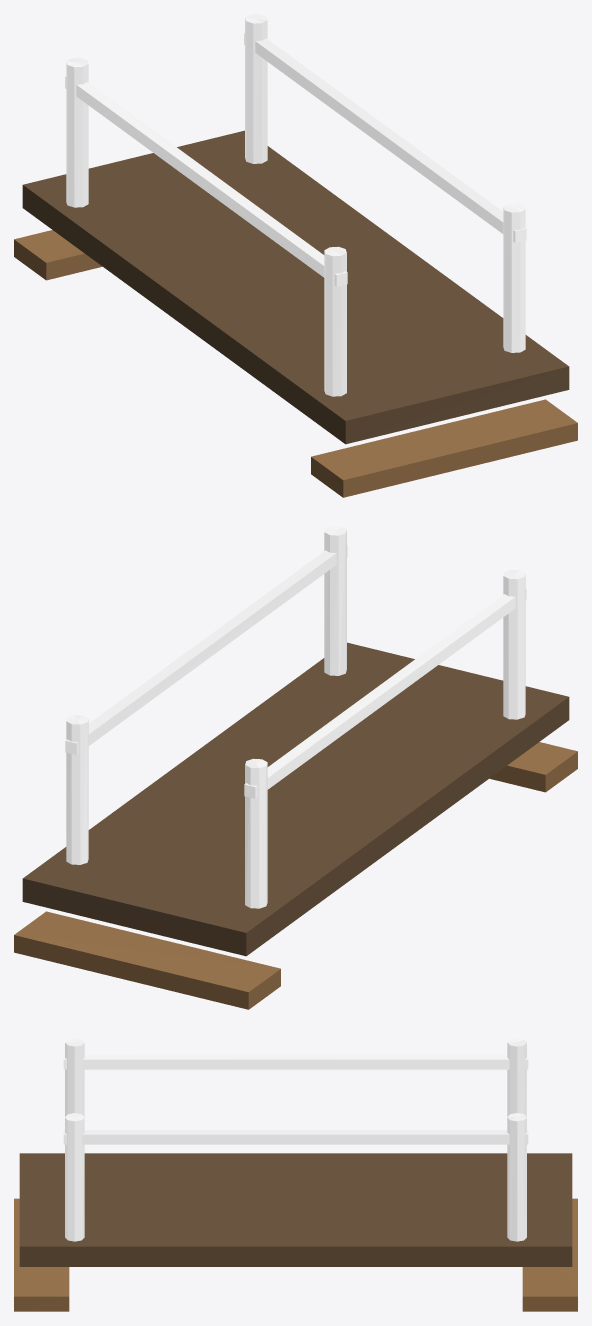
Rendered from Footbridge.glb.
The picture shows the model from 3 angles, top to bottom: view 1: azimuth 30°, elevation 25°; view 2: azimuth 150°, elevation 25°; view 3: azimuth 270°, elevation 25°; orthographic projection. The views are drawn at different scales.
Parts seen in each view (by area): view 1: footbridge-static-footbridge-timber, footbridge-static-, footbridge-static-footbridge-earth; view 2: footbridge-static-footbridge-timber, footbridge-static-, footbridge-static-footbridge-earth; view 3: footbridge-static-footbridge-timber, footbridge-static-, footbridge-static-footbridge-earth.
Part boxes in pixels (x1,y1,x2,y2): footbridge-static-footbridge-timber: [22, 130, 569, 444]; footbridge-static-: [65, 14, 526, 396]; footbridge-static-footbridge-earth: [14, 230, 577, 497]; footbridge-static-footbridge-timber: [22, 642, 569, 956]; footbridge-static-: [65, 526, 526, 908]; footbridge-static-footbridge-earth: [14, 742, 577, 1009]; footbridge-static-footbridge-timber: [19, 1153, 572, 1266]; footbridge-static-: [63, 1038, 528, 1241]; footbridge-static-footbridge-earth: [14, 1198, 577, 1311].
Size of the model in its own units: 2.1 by 1.83 by 5.1.
